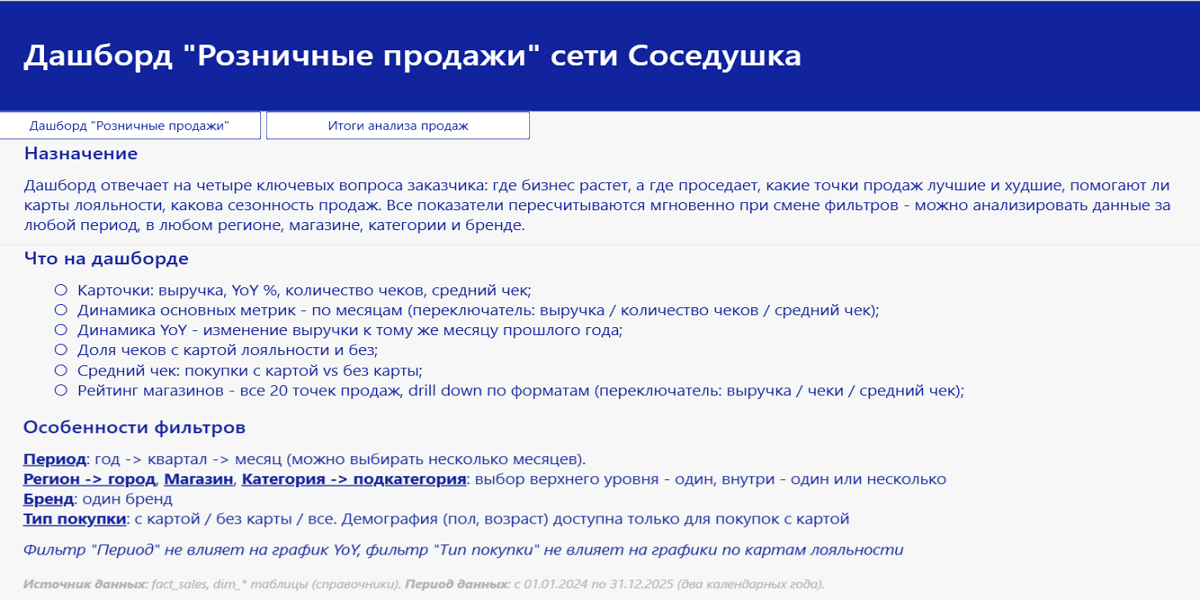

Layout of this report page (visuals, bound fields, positions):
{"tool":"powerbi","page":{"name":"Описание дашборда","canvas":[1920,1080],"ordinal":0},"visuals":[{"type":"shape","box":[0,0,1920,198],"z":0},{"type":"textbox","box":[0,0,1920,182],"z":1},{"type":"textbox","box":[0,248.7,1920,188.9],"z":2},{"type":"textbox","box":[0,437.6,1920,302.7],"z":3},{"type":"textbox","box":[0,1032,1920,48],"z":4},{"type":"textbox","box":[0,740.2,1920,275.7],"z":5},{"type":"pageNavigator","box":[0,198.6,846.3,50.1],"z":6}]}

Visuals, with their boxes on the page's 1920x1080 design canvas (x1, y1, x2, y2). These are canvas units, not pixel positions in the 1200x600 screenshot, which may show the page scaled, cropped or inside an application window:
shape: bbox=[0, 0, 1920, 198]
textbox: bbox=[0, 0, 1920, 182]
textbox: bbox=[0, 249, 1920, 438]
textbox: bbox=[0, 438, 1920, 740]
textbox: bbox=[0, 1032, 1920, 1080]
textbox: bbox=[0, 740, 1920, 1016]
pageNavigator: bbox=[0, 199, 846, 249]
